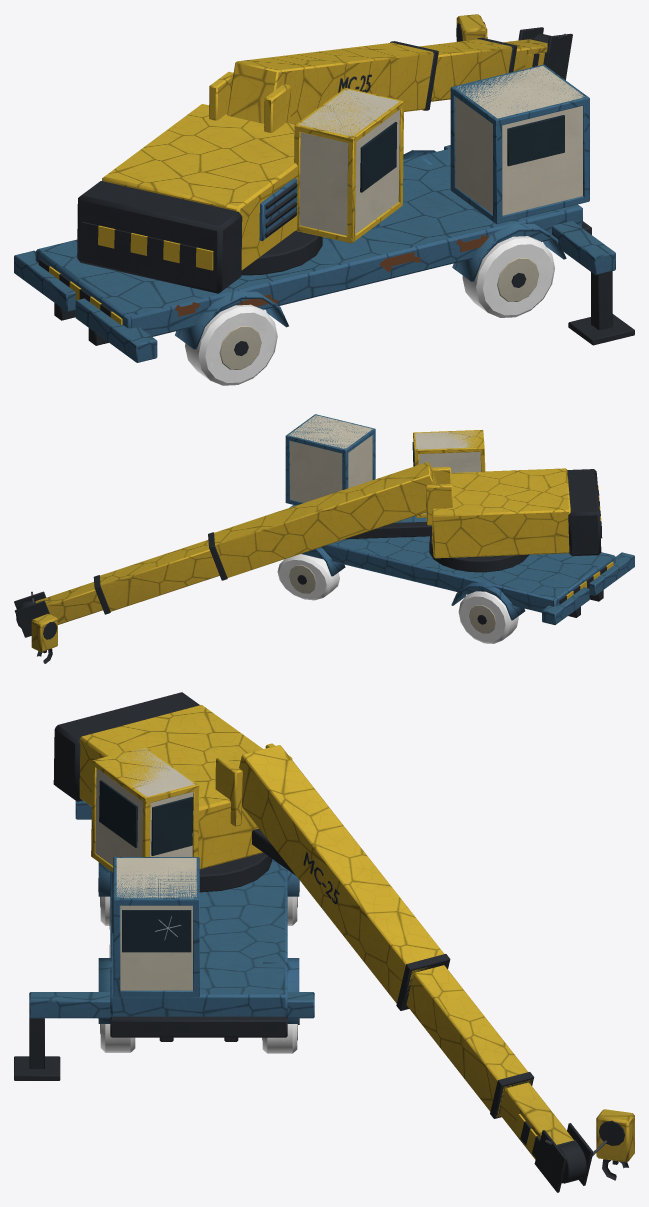
File: crane_mobile_wreck.glb
3 views of the same model, one above another, from view 1: azimuth 30°, elevation 25°; view 2: azimuth 150°, elevation 25°; view 3: azimuth 270°, elevation 25° (orthographic). The views are drawn at different scales.
Visible parts, largest first — view 1: crane_mobile_wreck; view 2: crane_mobile_wreck; view 3: crane_mobile_wreck.
Boxes of the visible parts, x1,y1,x2,y2 form: crane_mobile_wreck: [14, 14, 634, 385]; crane_mobile_wreck: [14, 414, 634, 663]; crane_mobile_wreck: [14, 692, 634, 1192].
Bounding box in the file's own units: 9.84 × 3.52 × 8.06.
15 materials, 15 textured.
